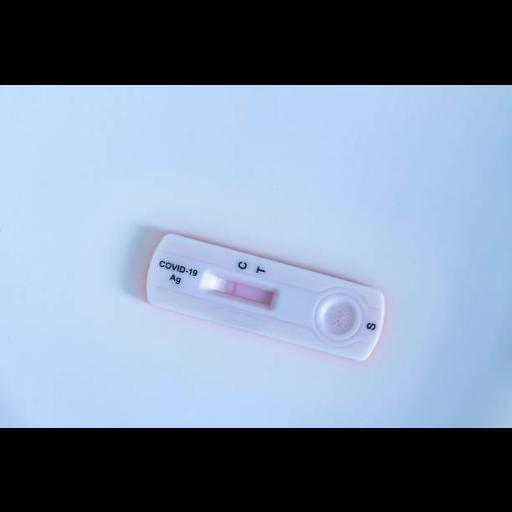Neg: (140, 230, 394, 367)
